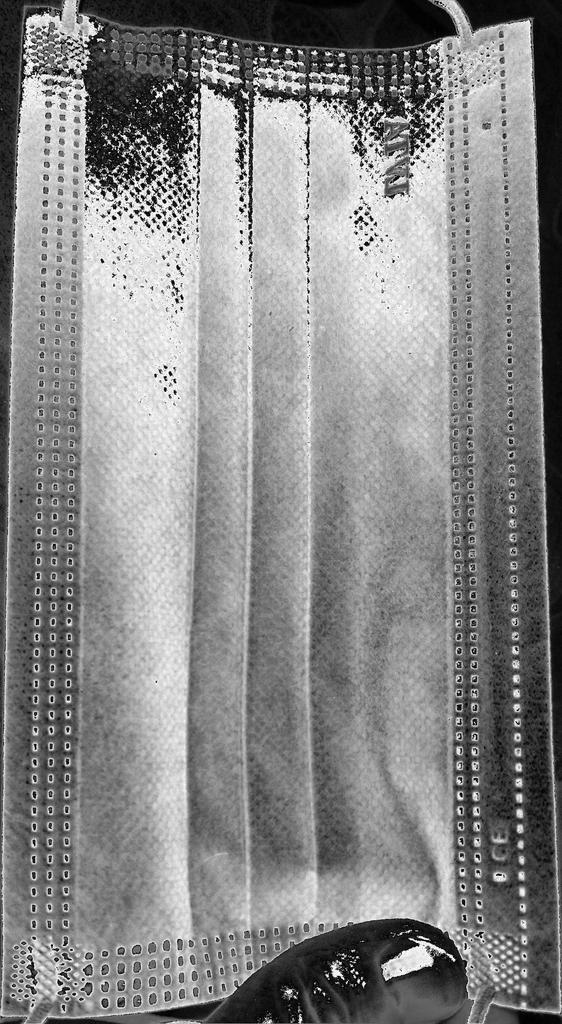High GSM: (79, 13, 459, 918)
